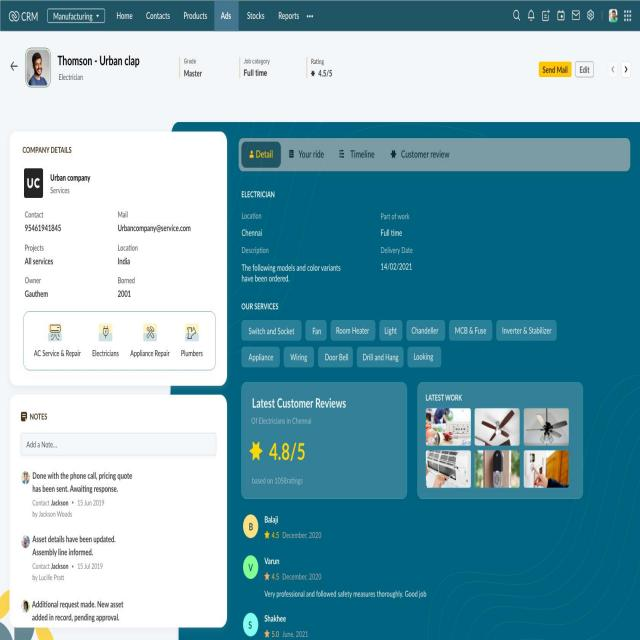button: (539, 60, 572, 78), (512, 6, 522, 24)
select: (47, 6, 105, 24)
